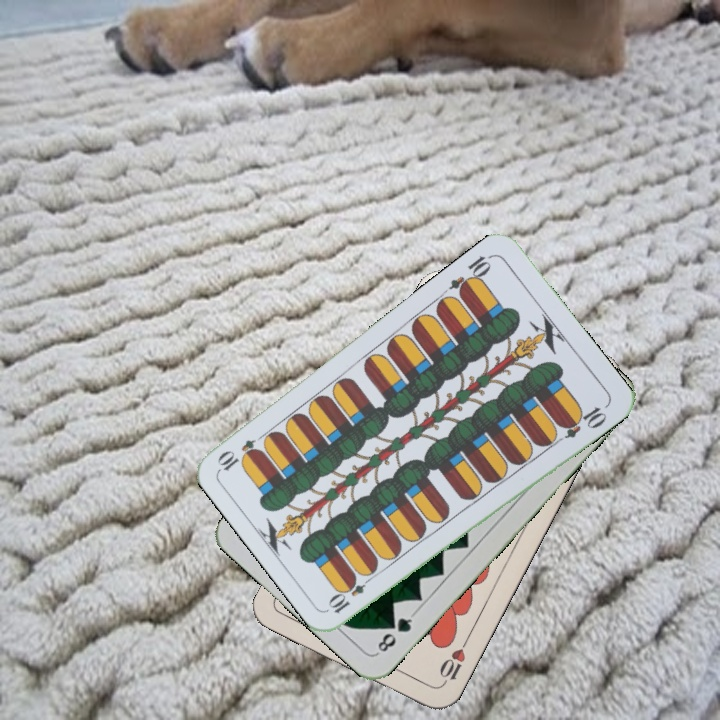E10: (445, 250, 496, 299), (325, 570, 377, 616)
G8: (372, 609, 417, 657)
H10: (435, 635, 471, 690)
